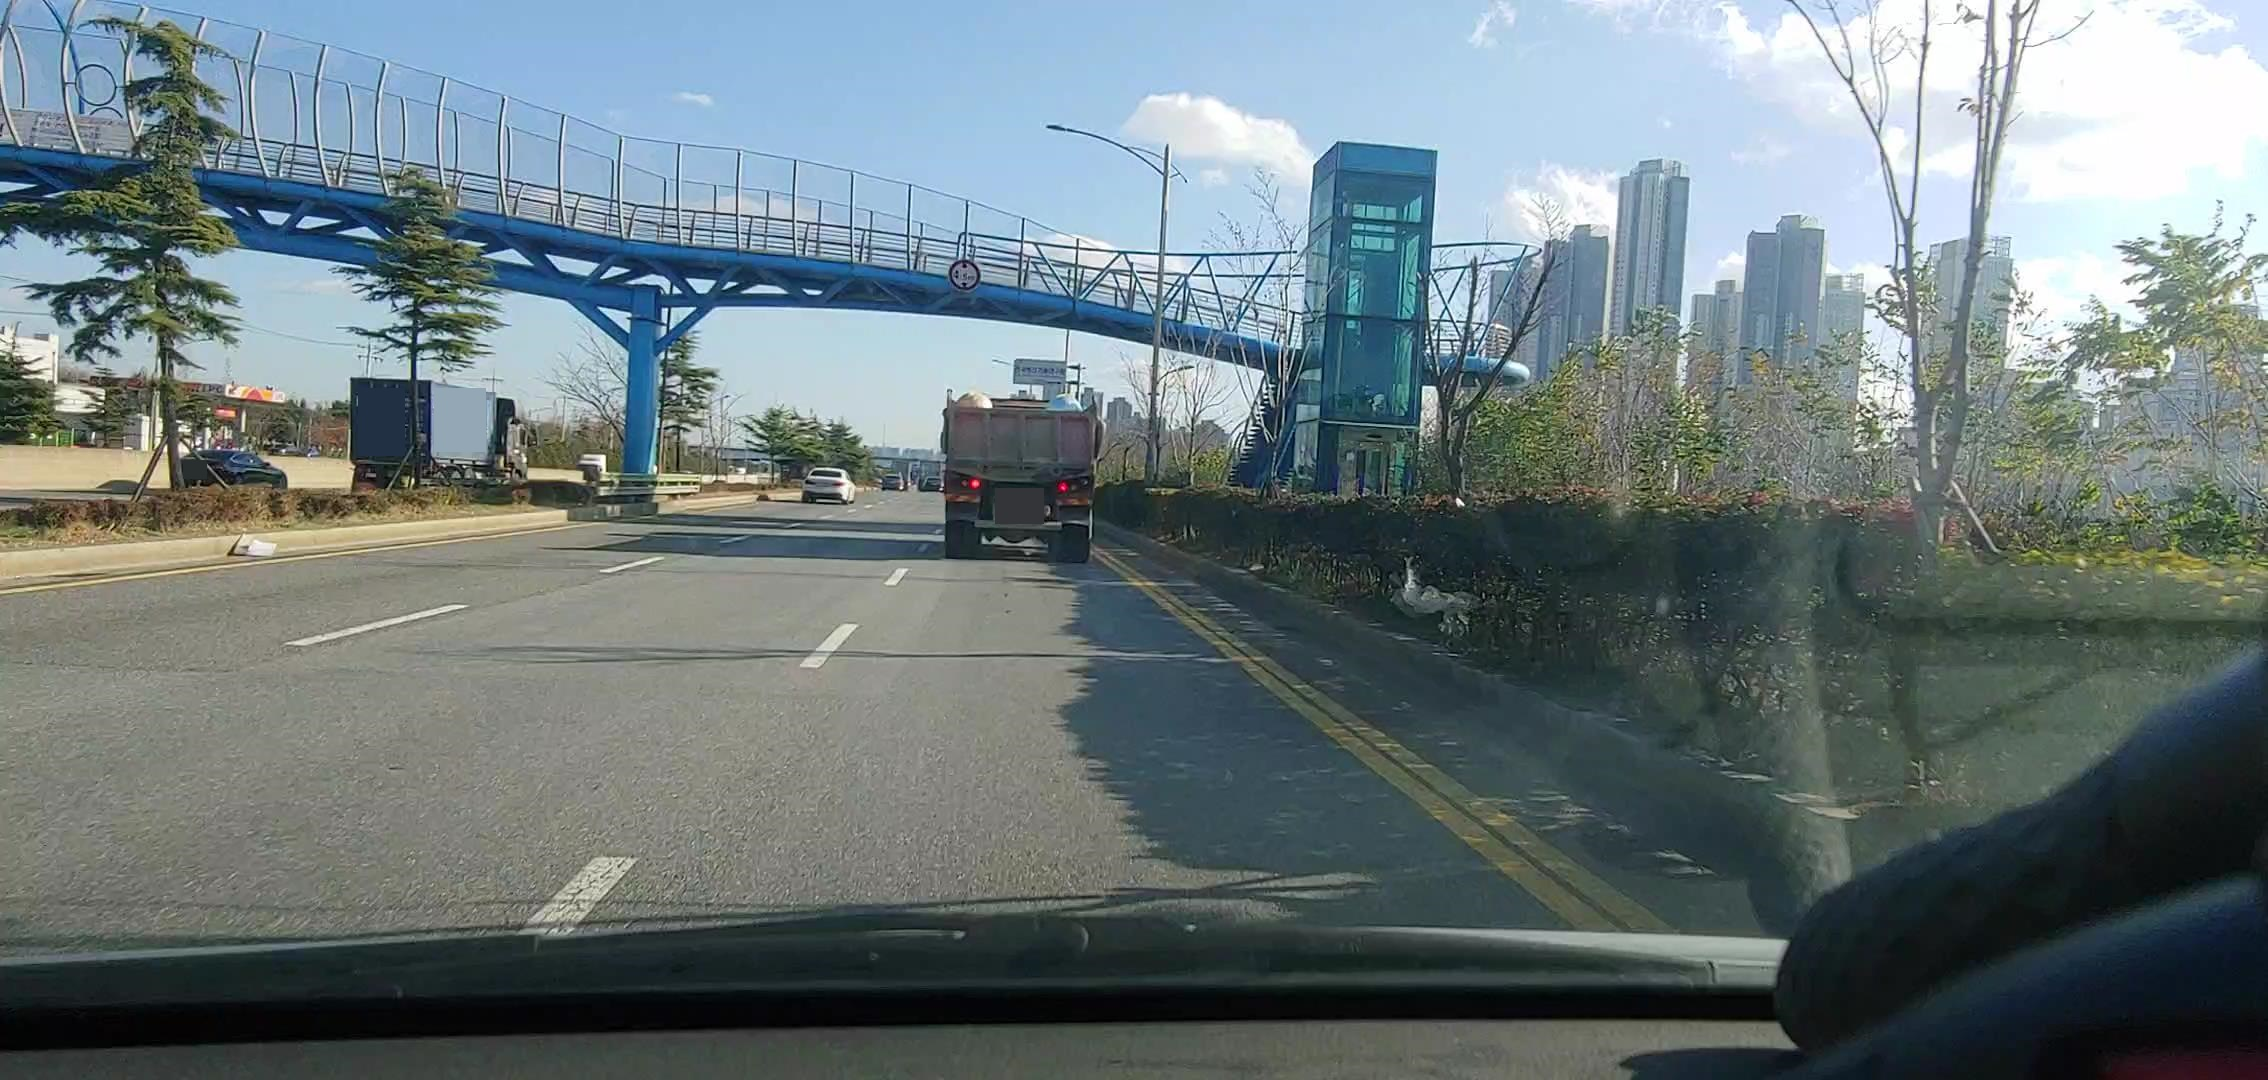불법차량: (940, 389, 1107, 564)
